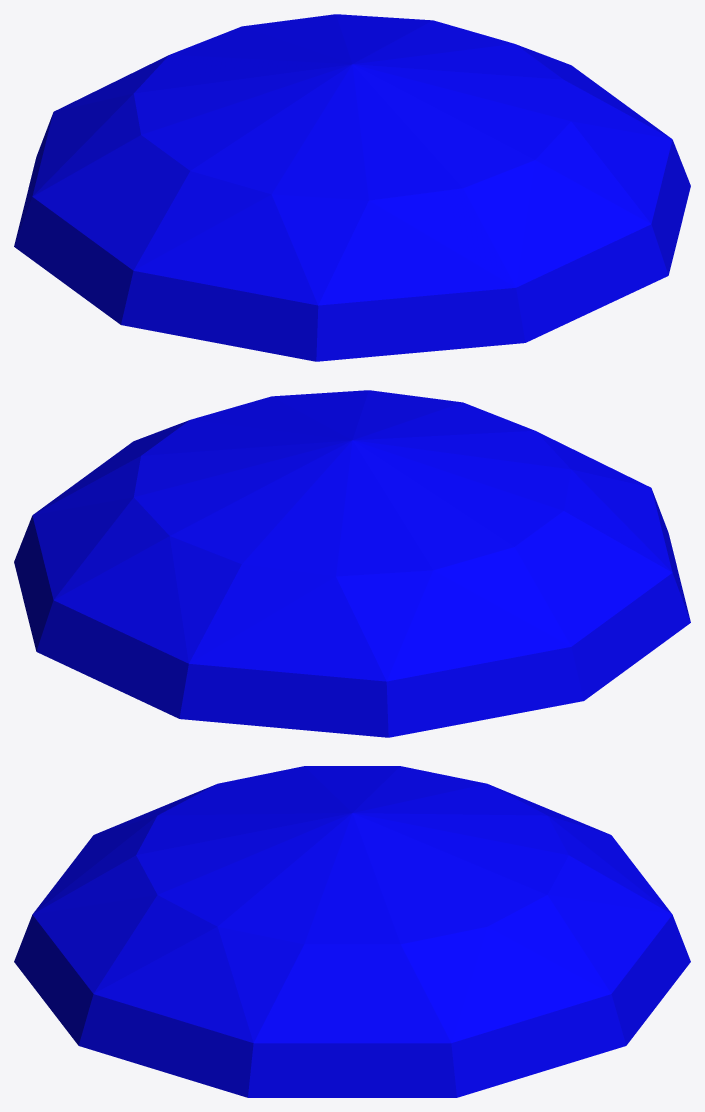
Rendered from tss_led_model.obj.
The picture shows the model from 3 angles, top to bottom: view 1: azimuth 30°, elevation 25°; view 2: azimuth 150°, elevation 25°; view 3: azimuth 270°, elevation 25°; orthographic projection. The views are drawn at different scales.
Parts seen in each view (by area): view 1: TSSSensorMesh_Case.001; view 2: TSSSensorMesh_Case.001; view 3: TSSSensorMesh_Case.001.
Boxes of the visible parts, box(x1,y1,x2,y2) form: TSSSensorMesh_Case.001: box(14, 14, 690, 361); TSSSensorMesh_Case.001: box(14, 390, 690, 737); TSSSensorMesh_Case.001: box(14, 766, 690, 1097).
Bounding box in the file's own units: 0.1087 × 0.0277 × 0.1143.
